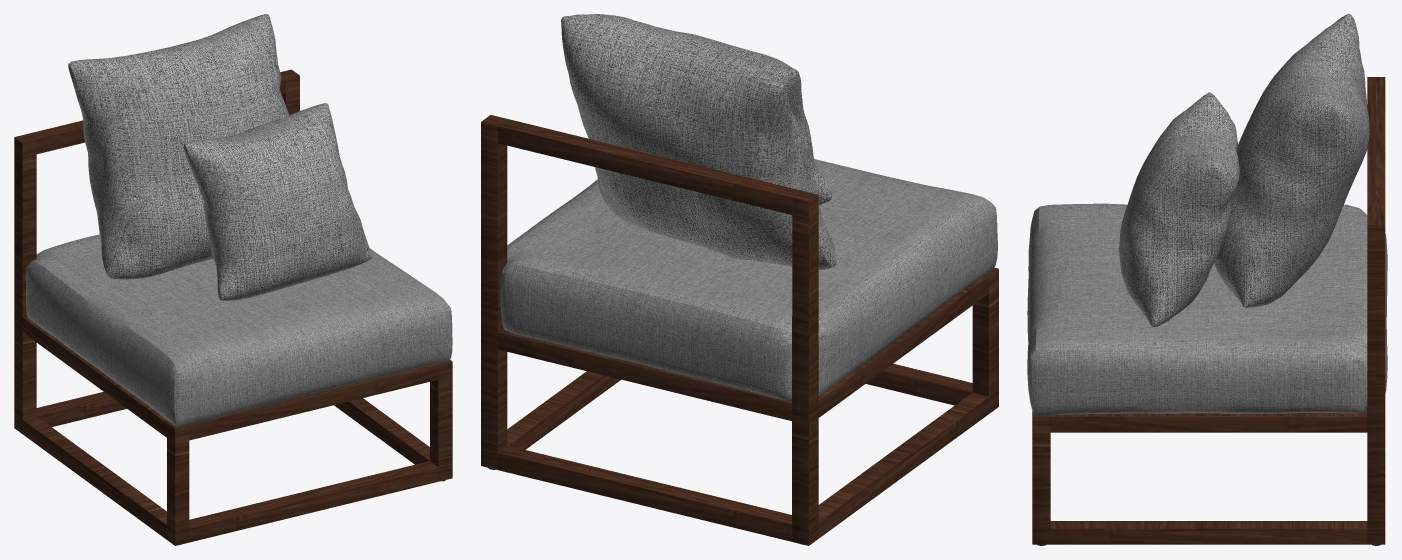
3 views of the same model, side by side, from view 1: azimuth 30°, elevation 25°; view 2: azimuth 150°, elevation 25°; view 3: azimuth 270°, elevation 25° (orthographic). The views are drawn at different scales.
Parts seen in each view (by area): view 1: C-skp6C16; view 2: C-skp6C16; view 3: C-skp6C16.
Part boxes in pixels (left/top/right/bottom): C-skp6C16: left=14, top=14, right=452, bottom=545; C-skp6C16: left=481, top=14, right=998, bottom=545; C-skp6C16: left=1027, top=14, right=1387, bottom=545.
Bounding box in the file's own units: 0.6448 × 0.8148 × 0.6421.
Materials: 3 (2 with a texture image).
